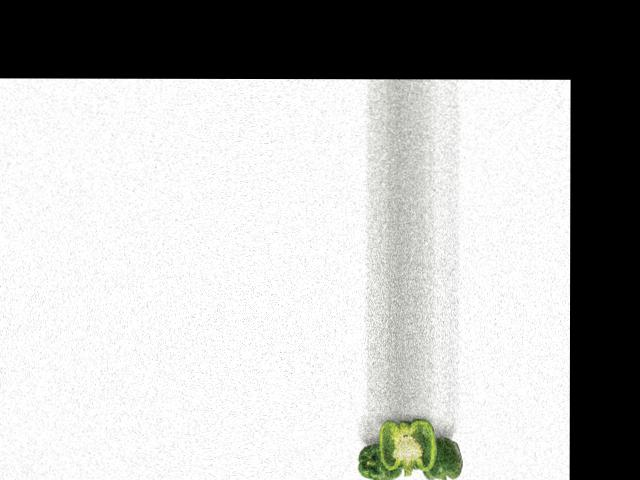bell_pepper: (354, 438, 405, 480)
